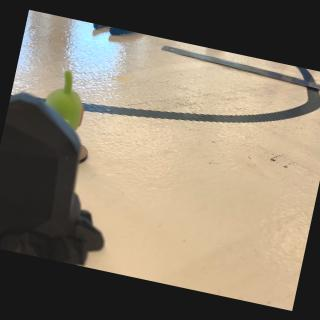teletubby: (45, 70, 83, 130)
